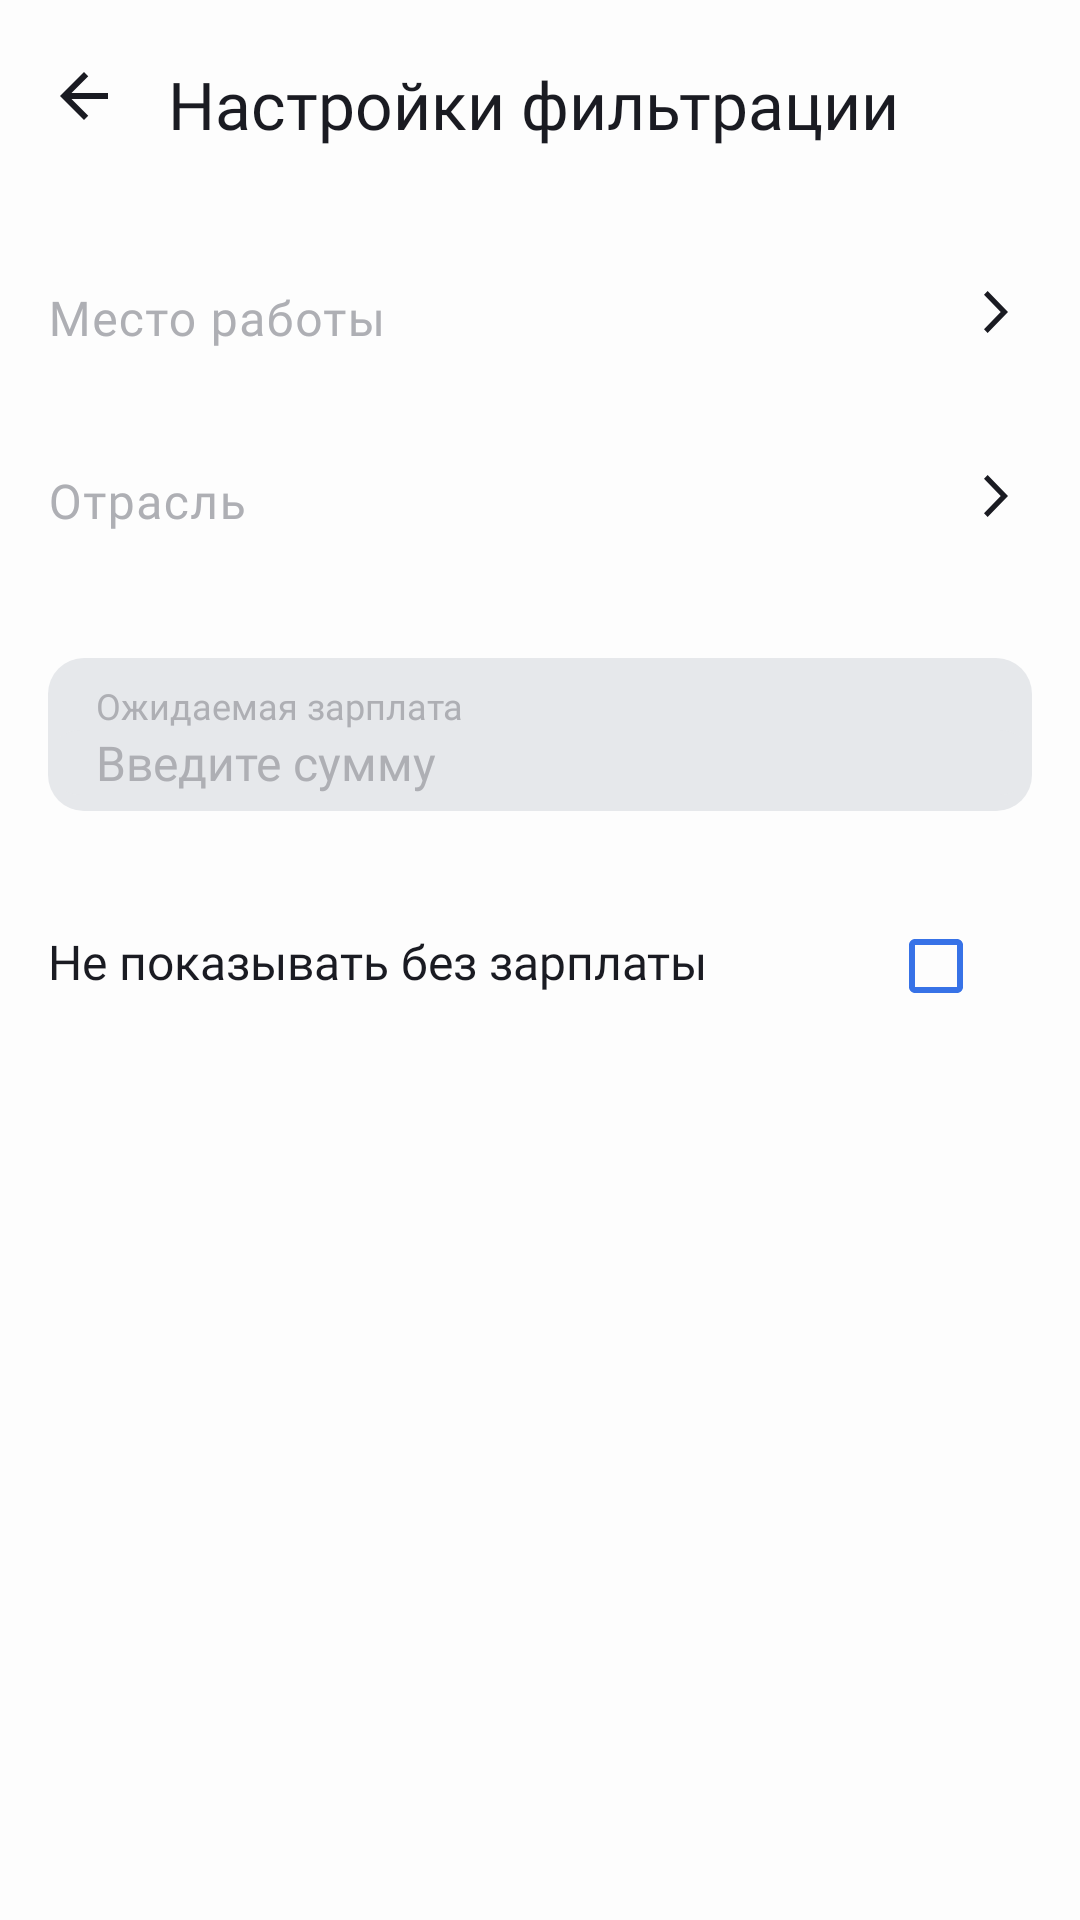

Named icons in this screenshot (1080 x 1920) and their bounding boxes, {"left": x1, "top": y1, "right": x2, "bottom": y2}:
arrow forward: {"left": 984, "top": 291, "right": 1008, "bottom": 333}, {"left": 984, "top": 475, "right": 1008, "bottom": 517}
back: {"left": 60, "top": 72, "right": 108, "bottom": 120}
